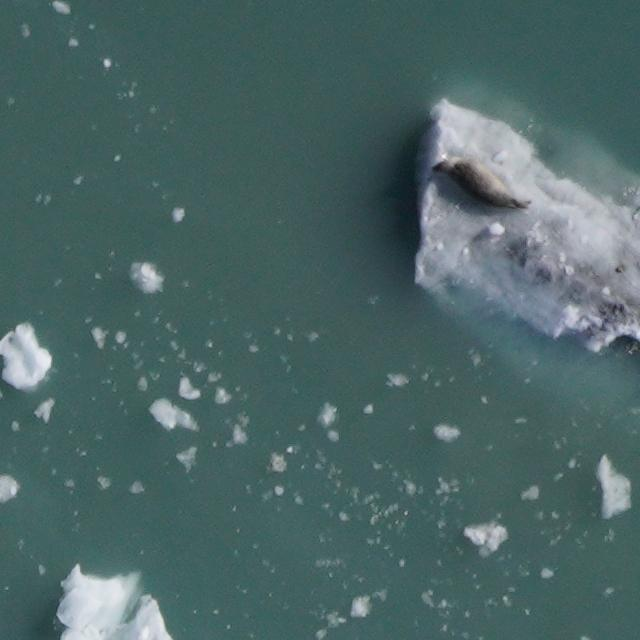seal: (426, 157, 536, 215)
